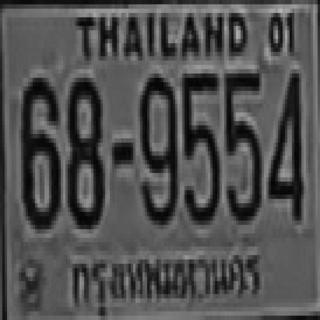N04: (266, 69, 301, 216)
N05: (180, 69, 217, 220), (223, 69, 260, 220)
N06: (19, 74, 58, 225)
N08: (65, 74, 103, 225)
N09: (138, 69, 175, 220)
P04: (62, 246, 266, 313)
